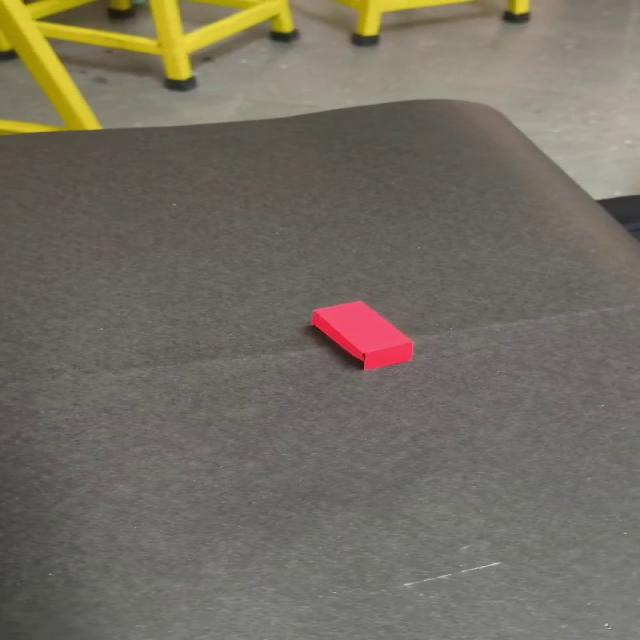red block: (309, 300, 415, 370)
